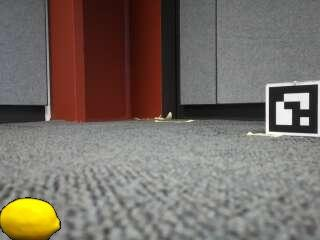lemon: (1, 200, 61, 240)
